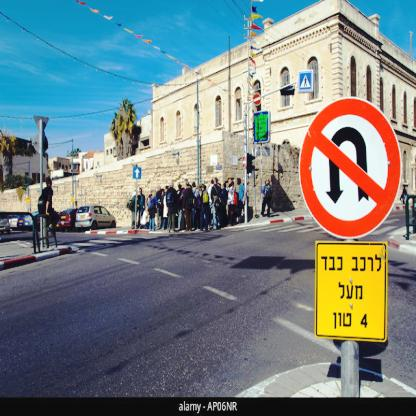No U-turn: (298, 95, 406, 240)
